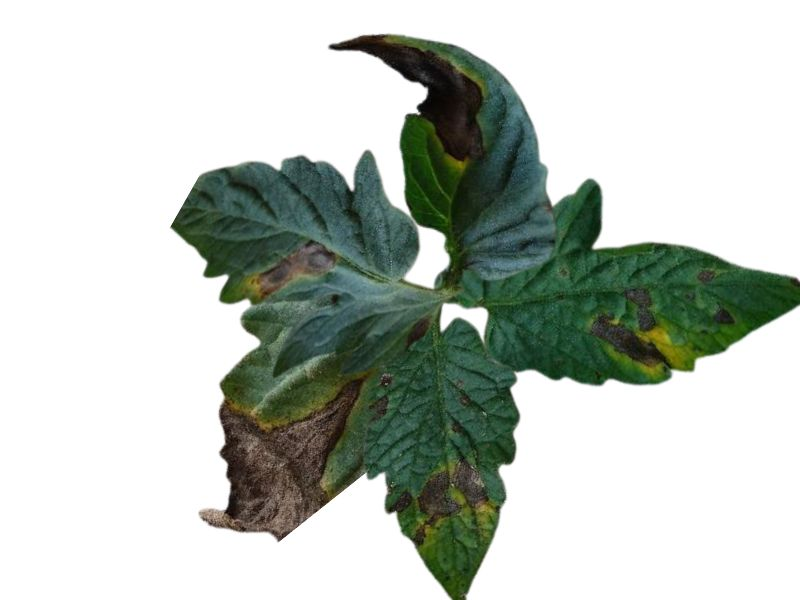Early_blight: (202, 370, 365, 541), (327, 32, 486, 161), (588, 283, 671, 370), (412, 458, 488, 547), (242, 239, 335, 304), (368, 372, 392, 425), (403, 316, 431, 349), (712, 303, 739, 330), (388, 486, 412, 516), (696, 268, 713, 282)
